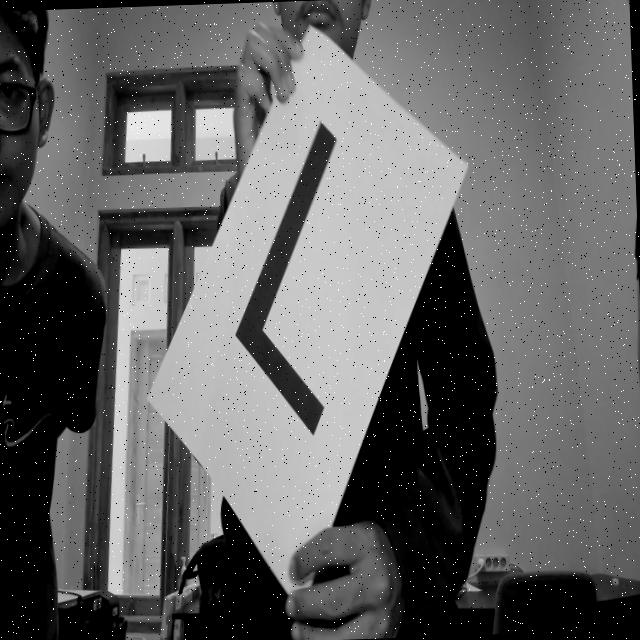l: (224, 107, 366, 461)
